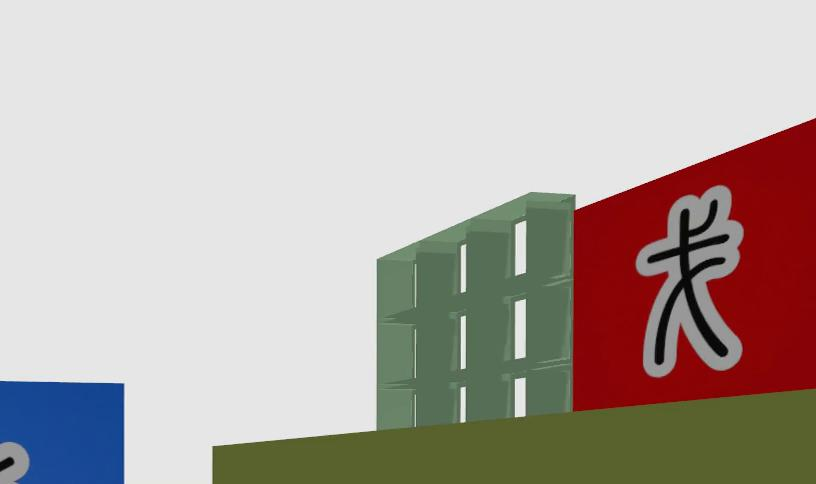KFS_FAKE: (574, 120, 815, 409), (637, 185, 743, 377)
KFS_REAL: (0, 382, 122, 484), (0, 441, 28, 484)
